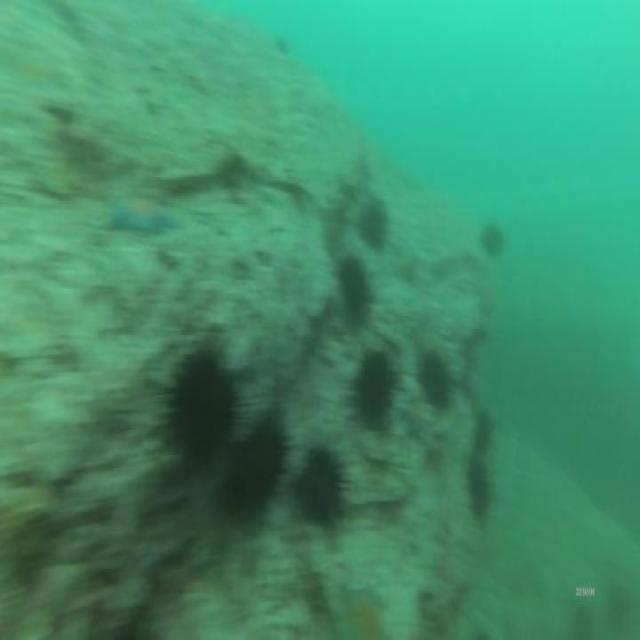echinus: (163, 344, 241, 482), (221, 414, 291, 517), (343, 344, 406, 433), (290, 441, 348, 532), (335, 251, 372, 321), (418, 344, 456, 412), (355, 198, 390, 256), (466, 455, 496, 520), (476, 214, 506, 262), (474, 403, 498, 457), (273, 35, 291, 58)
starfish: (100, 187, 185, 237), (332, 578, 390, 640)
